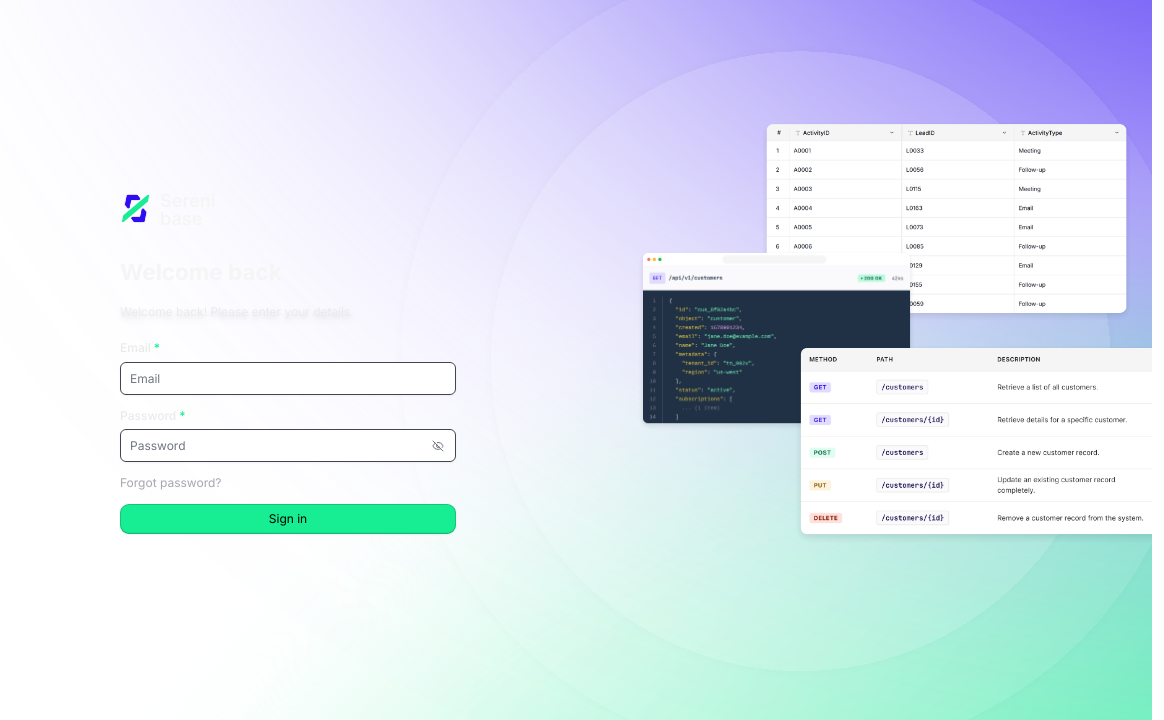
Test case: LoginPage › Email validation › should show error when email is empty on blur
Click the field with placeholder "Email": (288, 378) [120, 362, 456, 394]
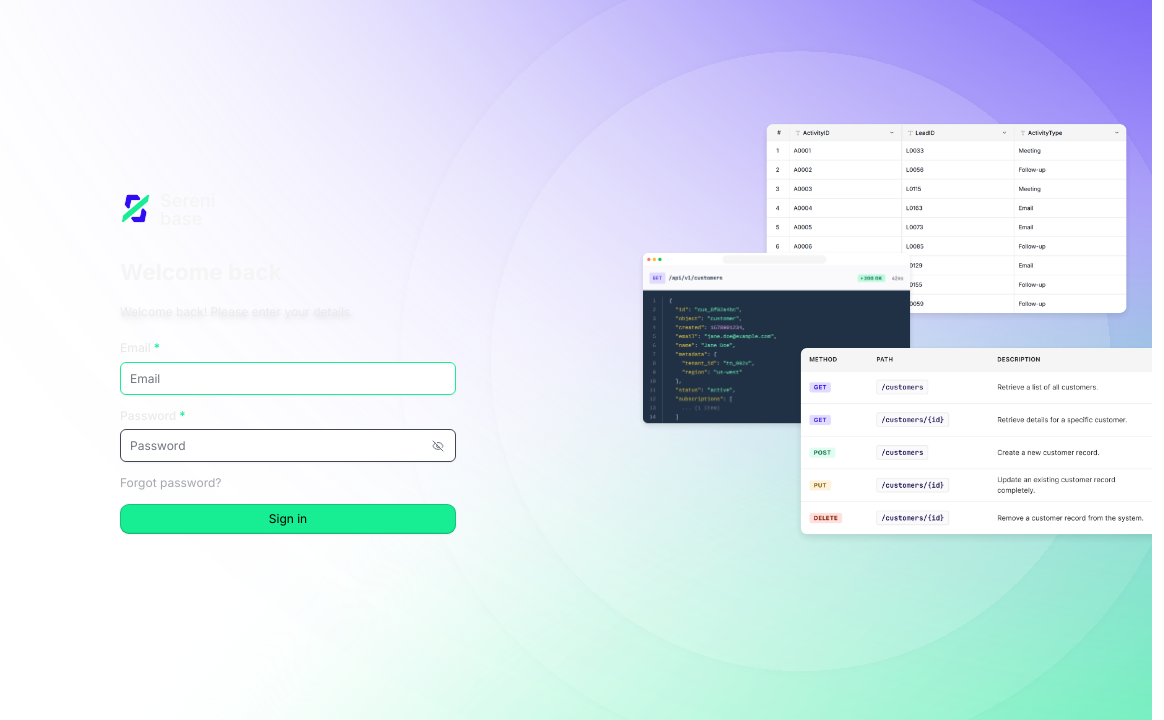
Press Tab
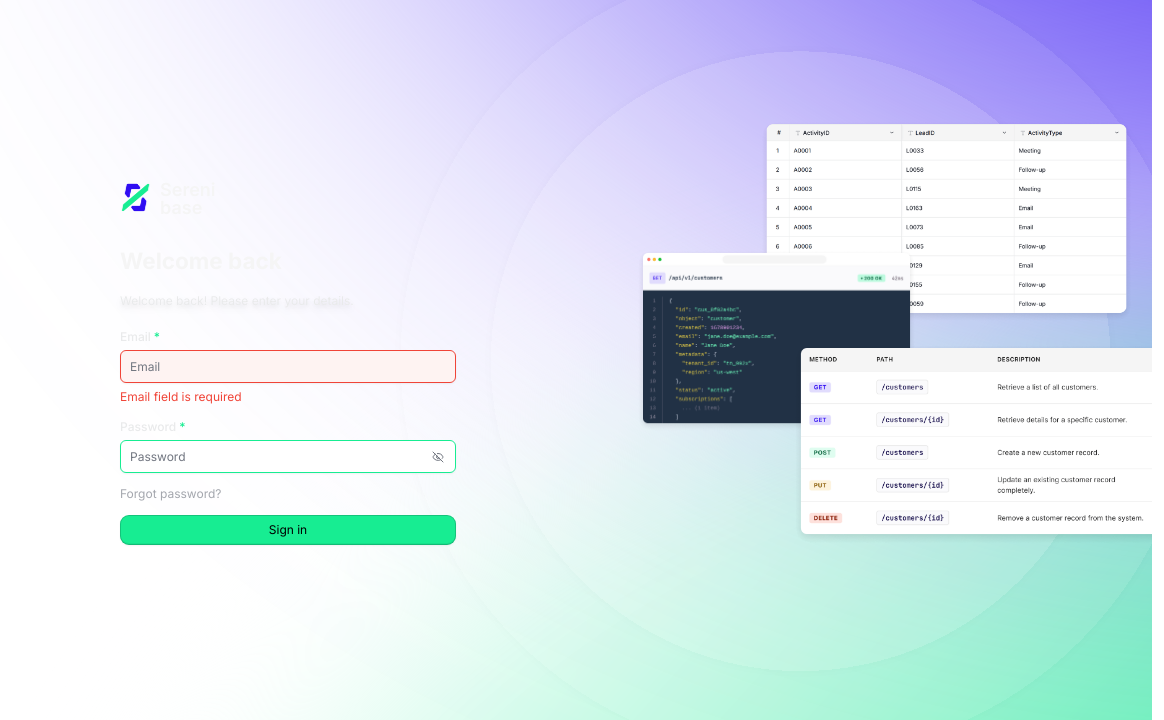
expect the text "Email field is required" is shown: met, box [120, 389, 242, 404]
